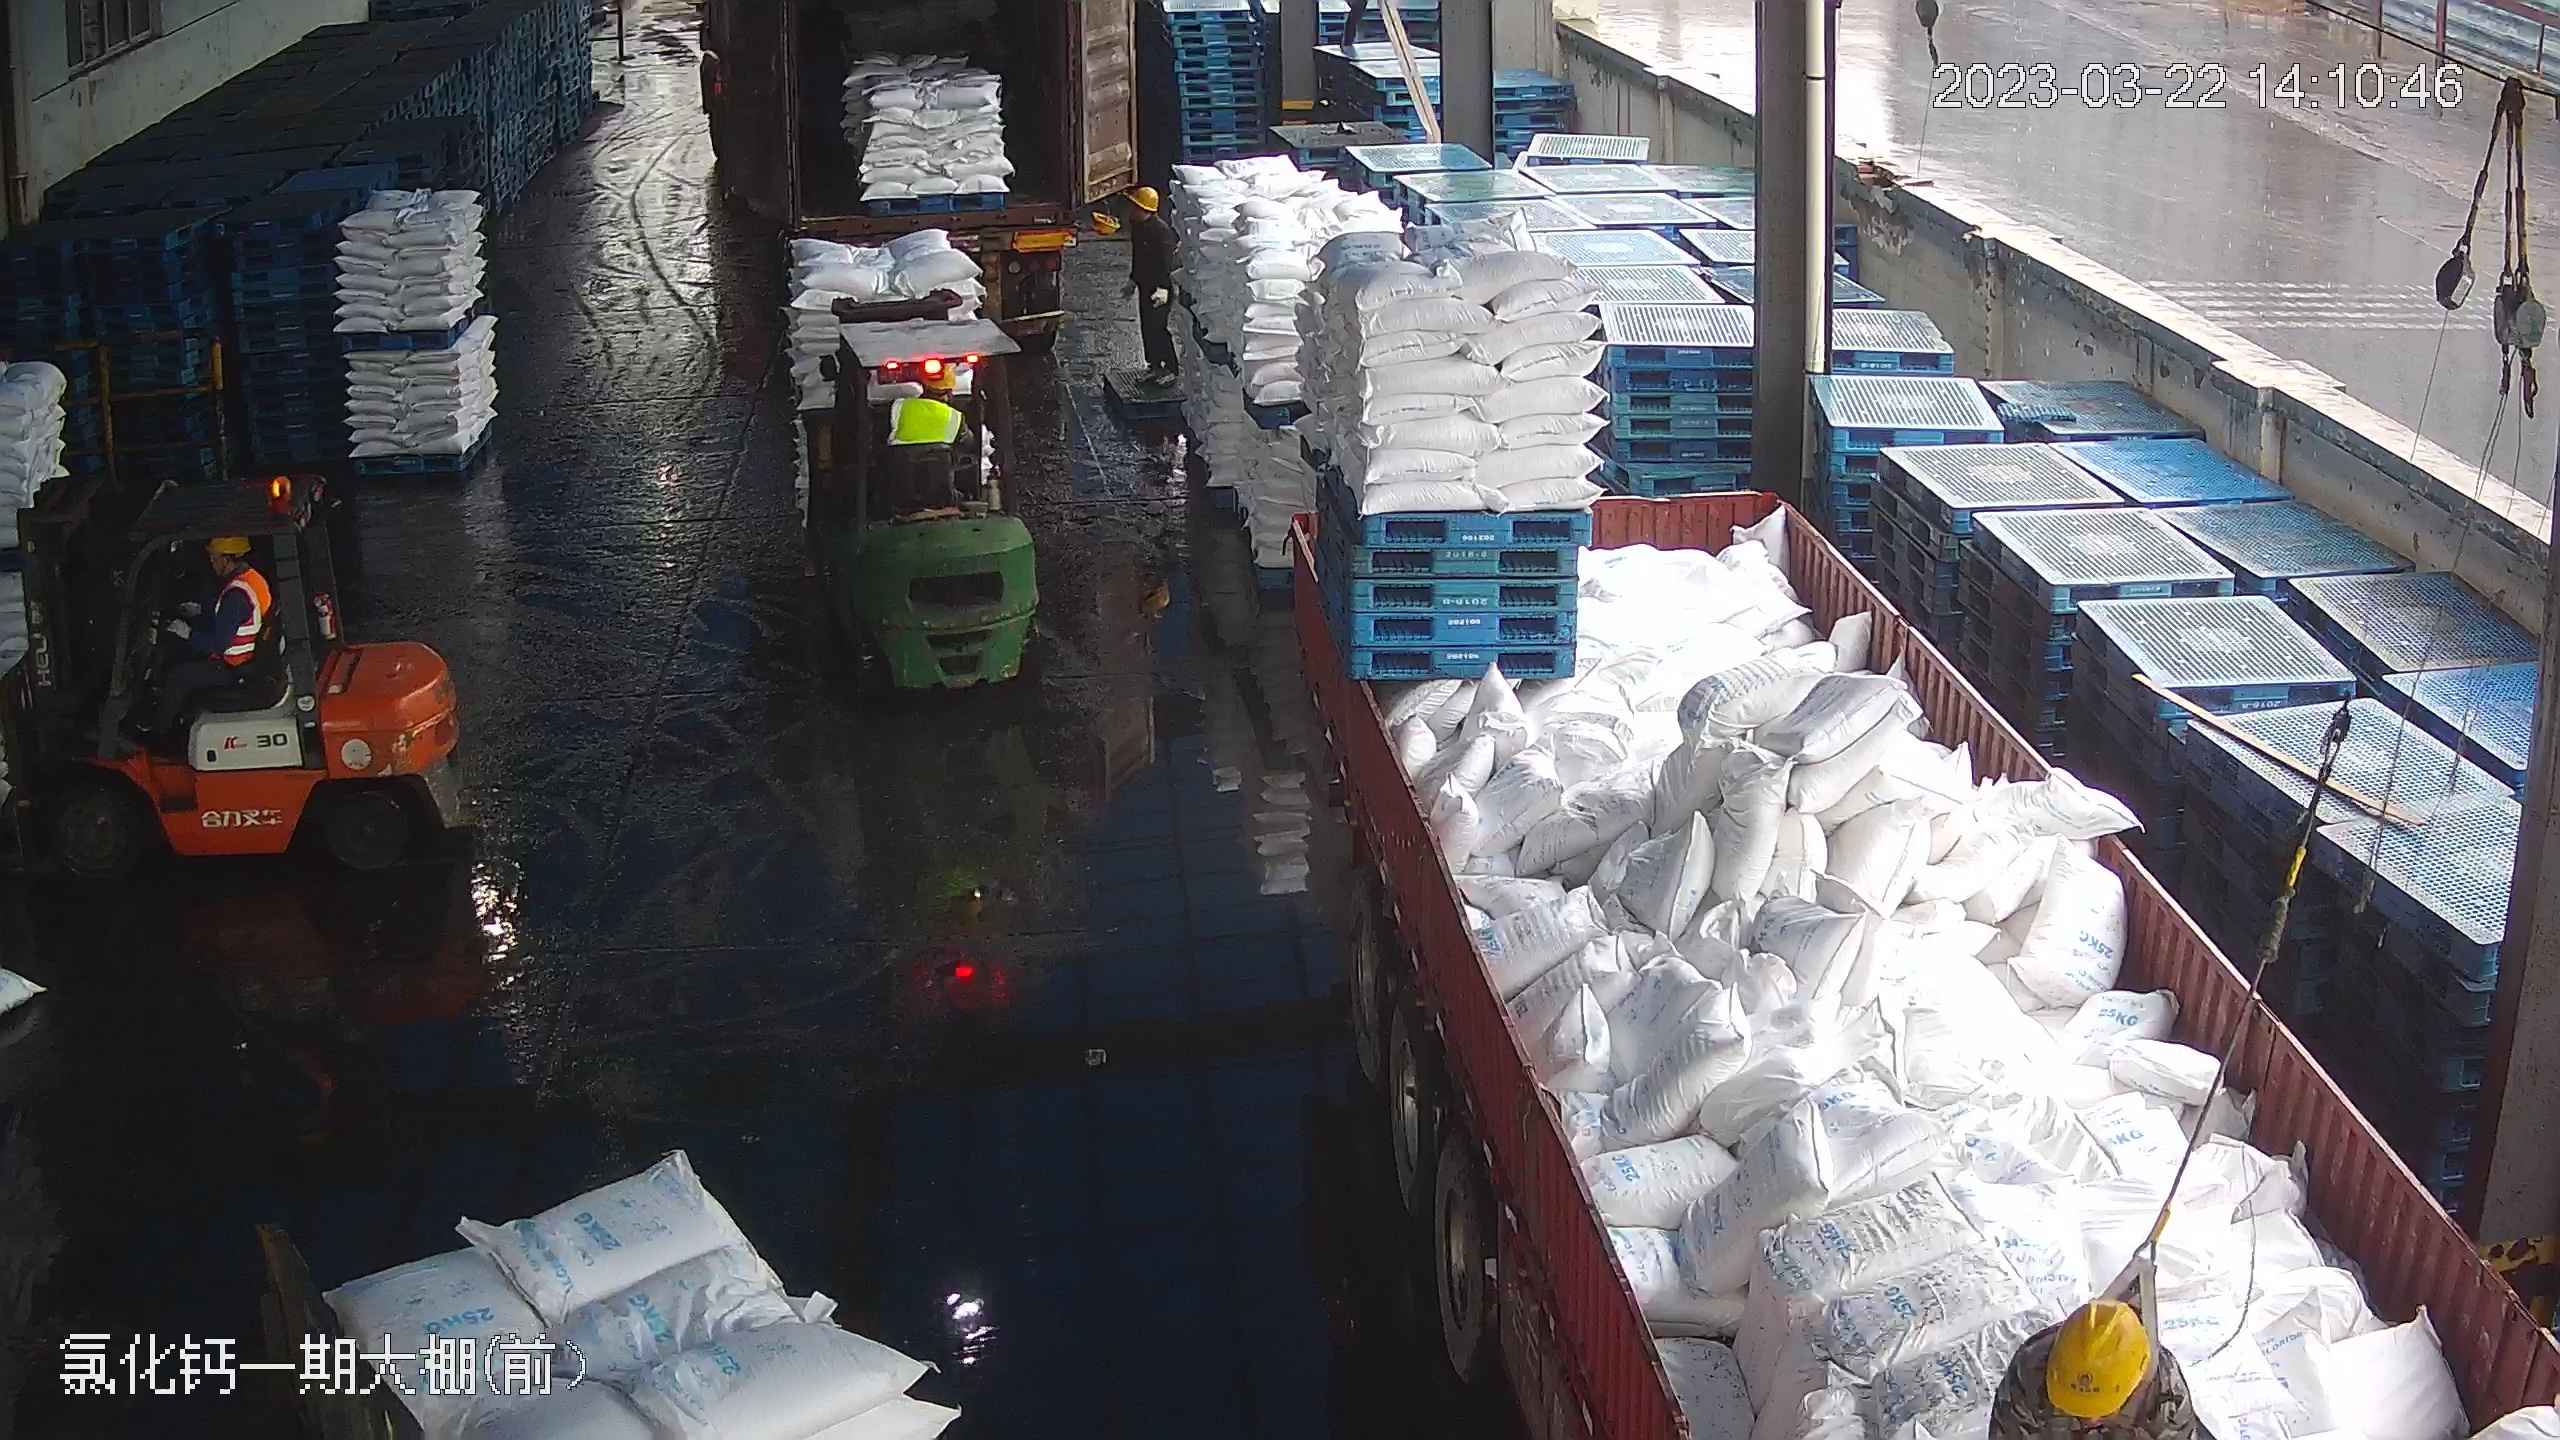belt: (2108, 1228, 2176, 1382)
head: (2022, 1291, 2183, 1430), (200, 529, 270, 615), (1123, 183, 1176, 248)
helmet: (2047, 1295, 2149, 1417), (206, 531, 249, 556), (1128, 183, 1161, 212)
people: (132, 528, 276, 736), (1122, 181, 1184, 386)
truck: (1250, 493, 2530, 1440)
